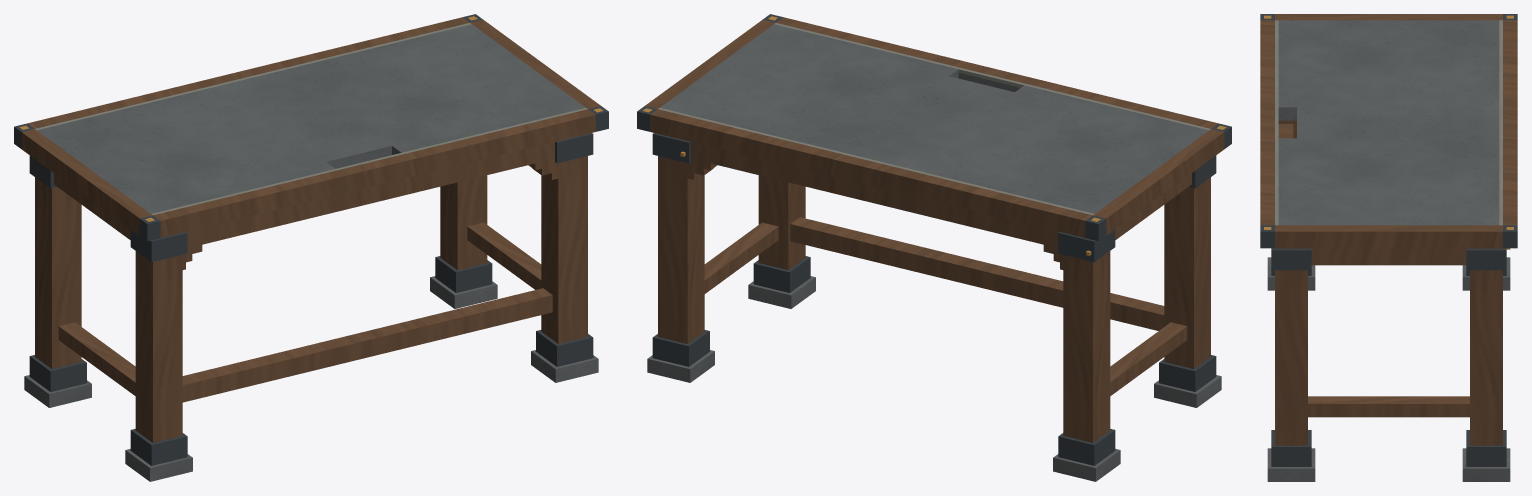
The picture shows the model from 3 angles, left to right: view 1: azimuth 30°, elevation 25°; view 2: azimuth 150°, elevation 25°; view 3: azimuth 270°, elevation 25°; orthographic projection. The views are drawn at different scales.
Parts seen in each view (by area): view 1: 办公桌桌架; view 2: 办公桌桌架; view 3: 办公桌桌架.
Boxes of the visible parts, left/top/right/bottom form: 办公桌桌架: left=14, top=14, right=608, bottom=481; 办公桌桌架: left=637, top=14, right=1231, bottom=481; 办公桌桌架: left=1260, top=14, right=1517, bottom=481.
Bounding box in the file's own units: 1.4 × 0.76 × 0.7.
Materials: 6 (6 with a texture image).
